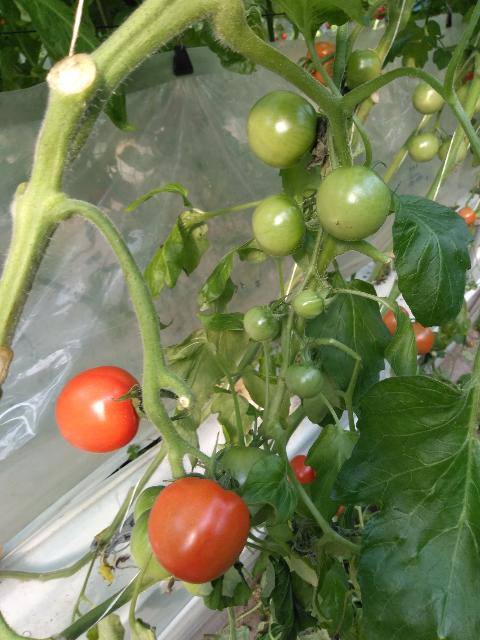l_fully_ripened: (148, 477, 250, 584), (55, 365, 141, 453), (305, 41, 337, 87)
l_green: (202, 445, 287, 527), (316, 165, 392, 241), (245, 91, 318, 169), (252, 194, 308, 256), (130, 509, 173, 580), (345, 48, 381, 92), (243, 305, 279, 343), (285, 362, 323, 398), (134, 486, 165, 524), (411, 82, 446, 115), (407, 133, 440, 163), (292, 290, 325, 319), (438, 137, 468, 167)
